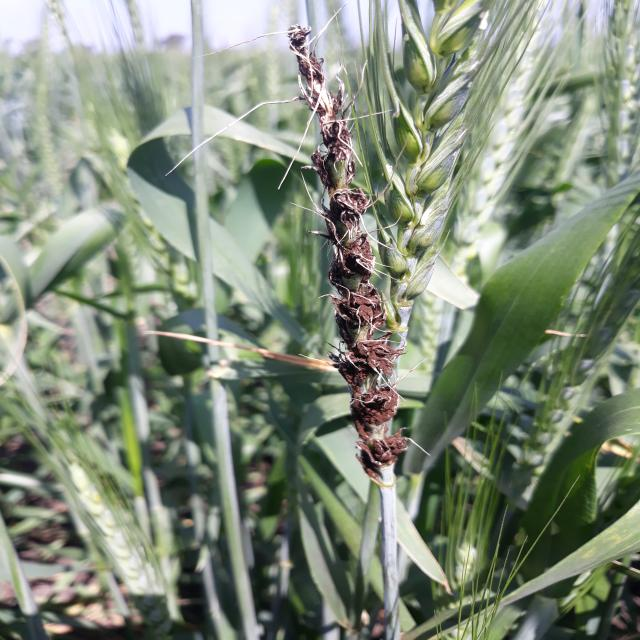loose_charred: (266, 9, 450, 507)
